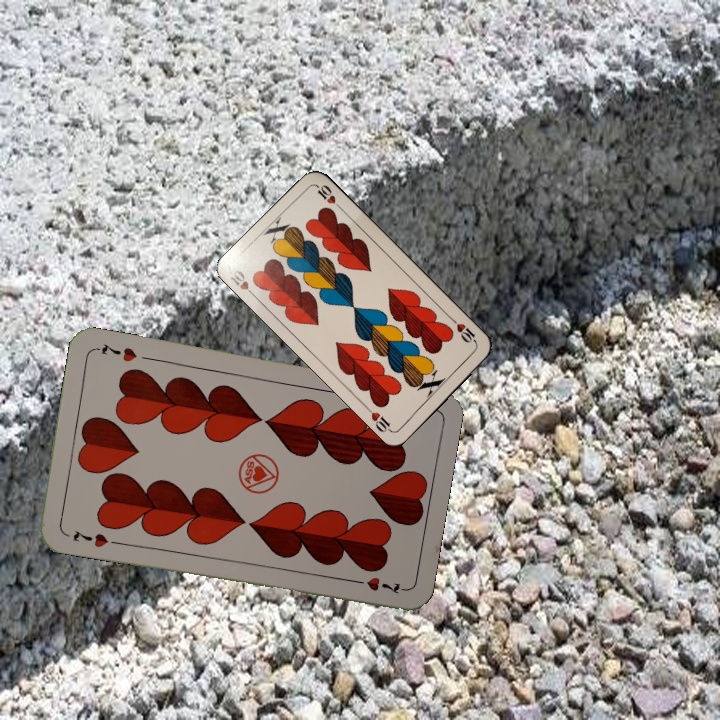H10: (226, 263, 259, 301), (448, 315, 480, 347)
H7: (69, 526, 111, 550)
